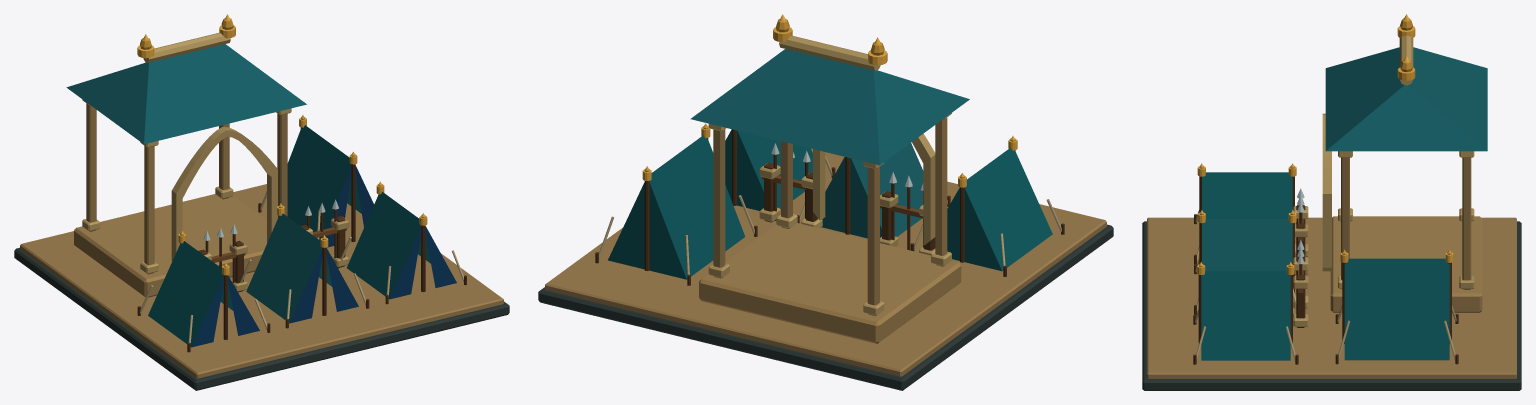
3 views of the same model, side by side, from view 1: azimuth 30°, elevation 25°; view 2: azimuth 150°, elevation 25°; view 3: azimuth 270°, elevation 25° (orthographic). The views are drawn at different scales.
Parts seen in each view (by area): view 1: camp_level7_structure, camp_level7_metal; view 2: camp_level7_structure, camp_level7_metal; view 3: camp_level7_structure, camp_level7_metal.
Part boxes in pixels (<box>): camp_level7_structure: <box>14,18,509,390</box>; camp_level7_metal: <box>137,14,427,275</box>; camp_level7_structure: <box>538,19,1113,390</box>; camp_level7_metal: <box>642,14,1017,187</box>; camp_level7_structure: <box>1142,18,1521,390</box>; camp_level7_metal: <box>1197,14,1453,275</box>.
Bounding box in the file's own units: 5.6 × 4.18 × 5.6.
